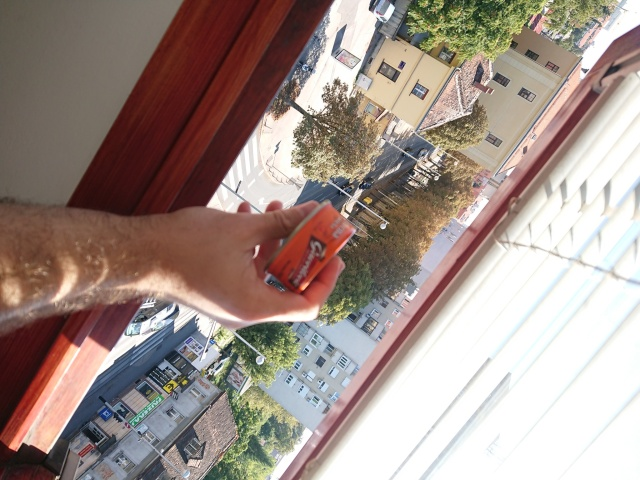Gavrilovic Pork Liver Pate 100g: (261, 196, 358, 295)
